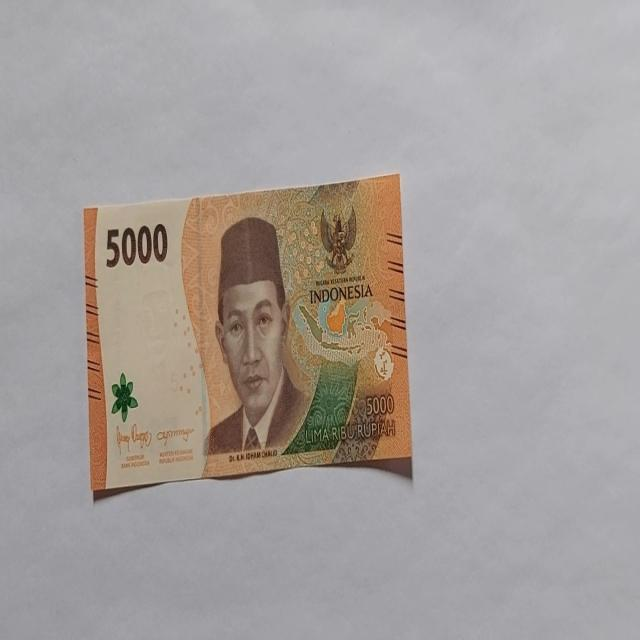lima ribu rupiah: (84, 172, 412, 497), (201, 215, 309, 460)
